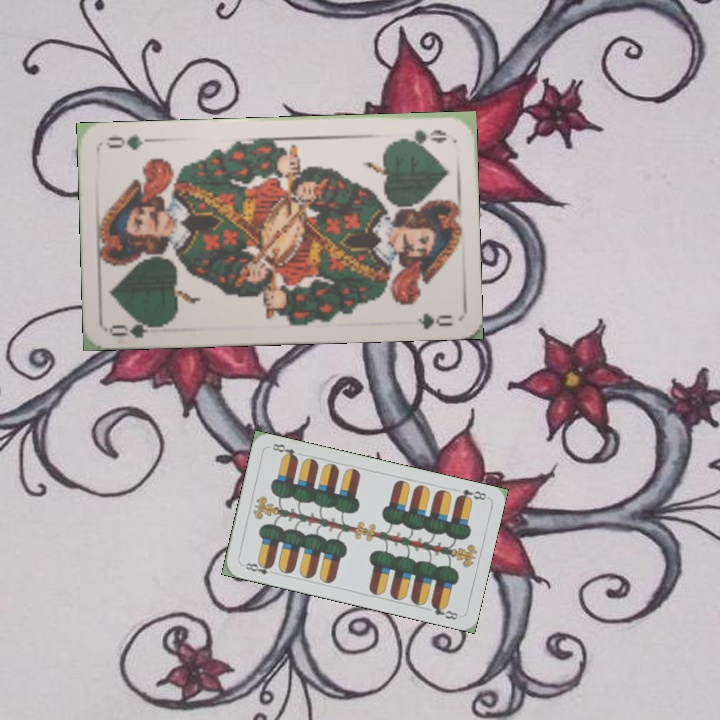E8: (238, 558, 278, 577), (452, 485, 489, 504)
GO: (107, 314, 166, 341), (392, 126, 449, 146)
